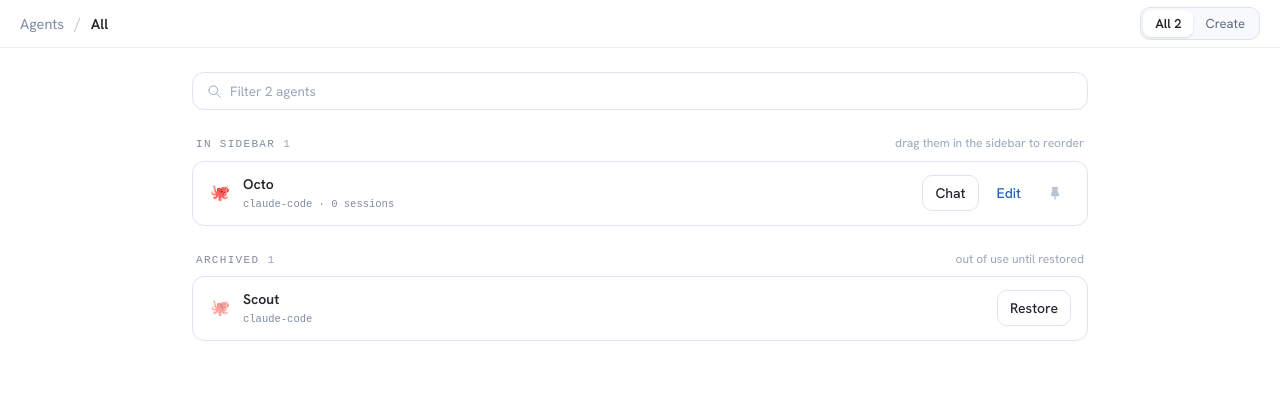
Test: AgentFormPage › surfaces a name clash when restoring
Expected: the text "Scout" is shown, [243,290,279,308]
Click the button "Restore". click: (1034, 308)
box: [997,290,1071,326]
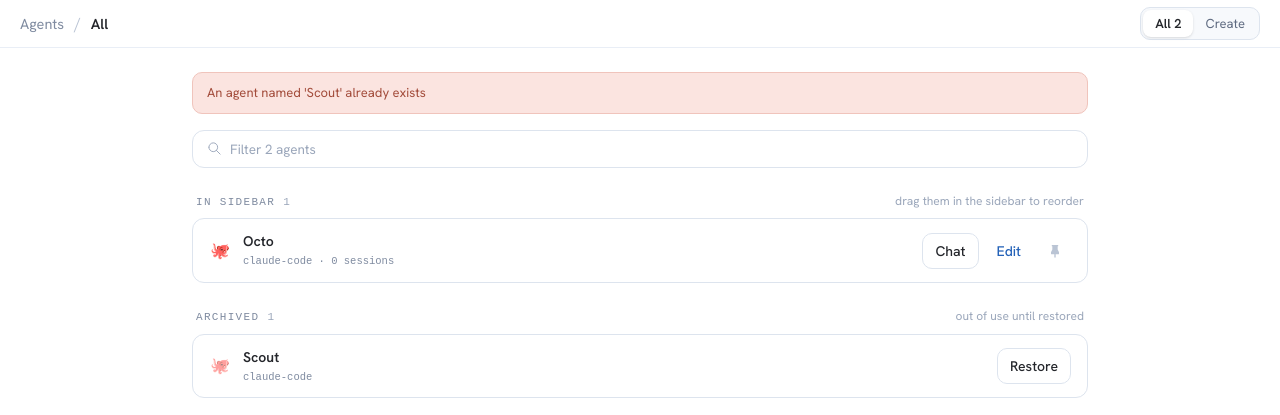
Expected: the text "An agent named 'Scout' already exists" is shown, [192,72,1088,114]
